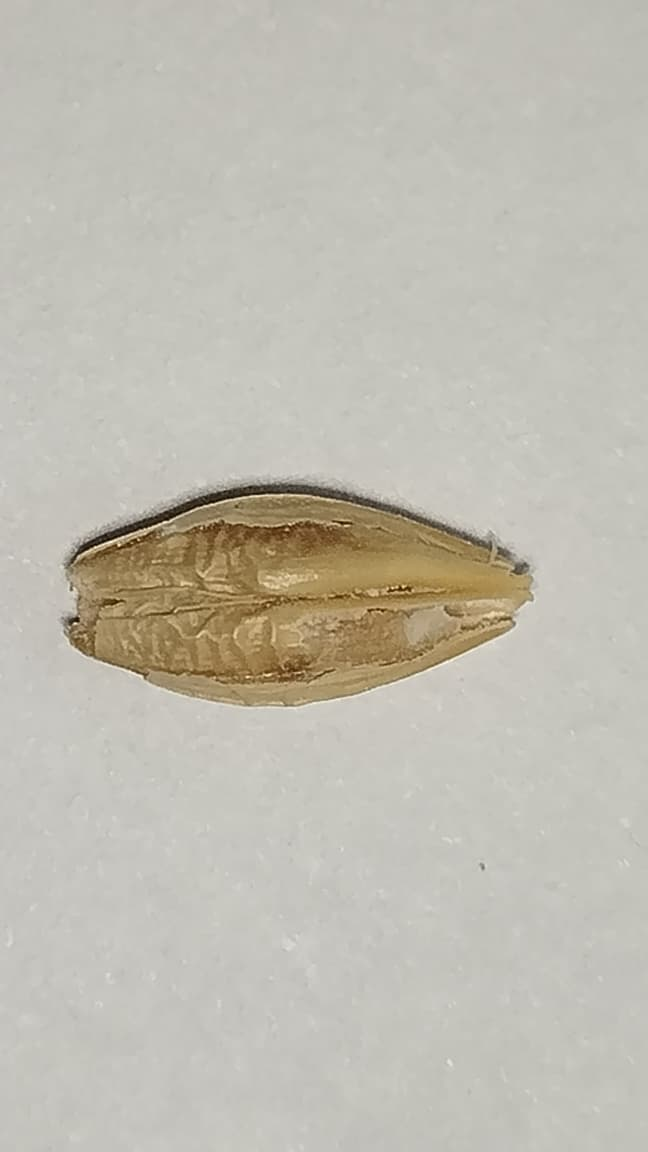healthy-70-60: (69, 495, 526, 704)
insectdamage: (376, 574, 534, 652)
shriveledseed: (150, 520, 343, 682)
